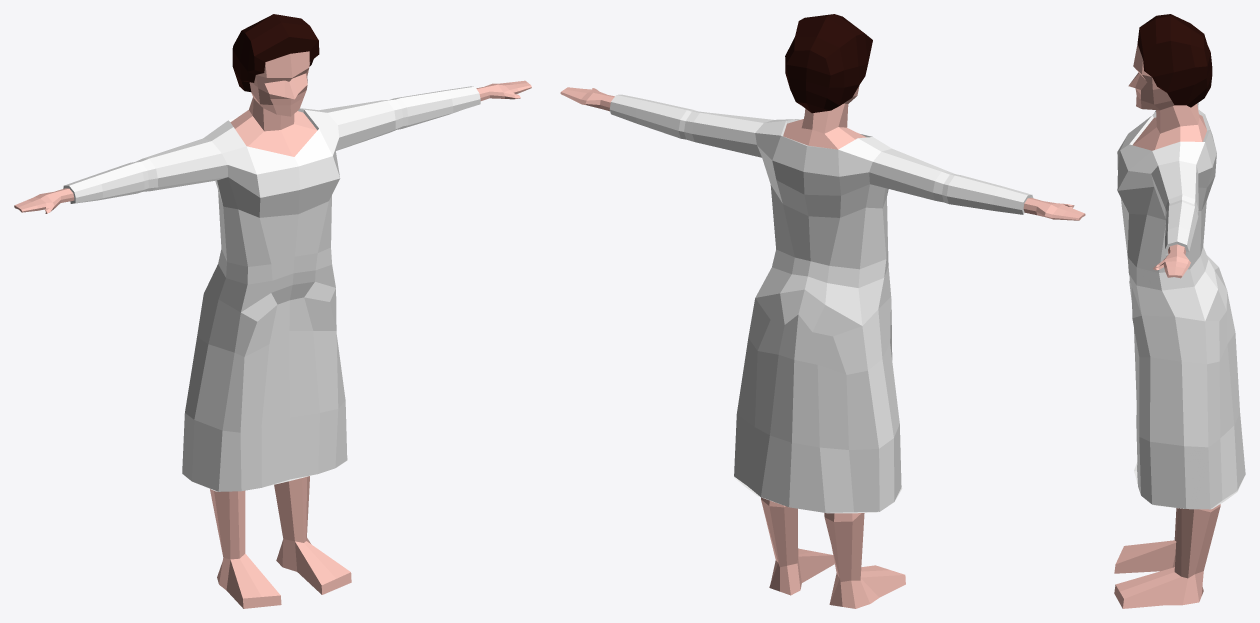
The model's file is _chap2Constancia.fbx.
The picture shows the model from 3 angles, left to right: view 1: azimuth 30°, elevation 25°; view 2: azimuth 150°, elevation 25°; view 3: azimuth 270°, elevation 25°; orthographic projection.
Visible parts, largest first — view 1: _chap2Constancia; view 2: _chap2Constancia; view 3: _chap2Constancia.
Part boxes in pixels (left/top/right/bottom): _chap2Constancia: left=14, top=14, right=531, bottom=608; _chap2Constancia: left=560, top=14, right=1085, bottom=608; _chap2Constancia: left=1114, top=14, right=1245, bottom=608.
Size of the model in its own units: 192 by 203 by 42.6.
